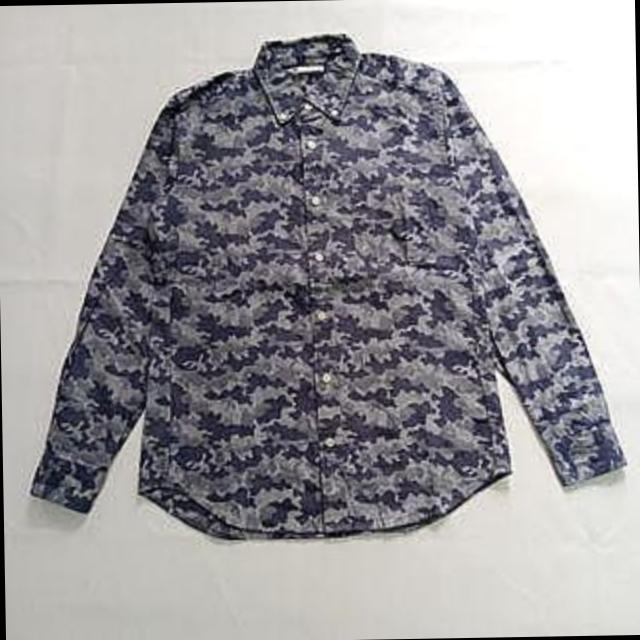SHIRT: (7, 18, 640, 552)
